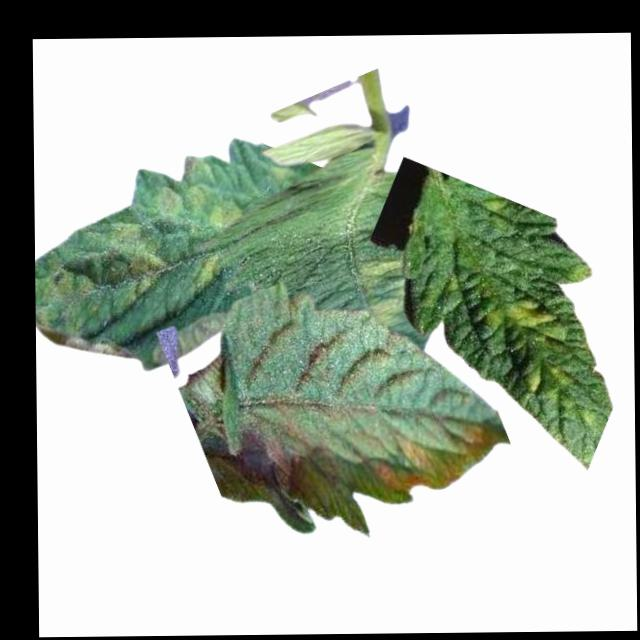Leaf_Mold: (40, 220, 166, 334), (366, 416, 498, 499), (151, 155, 240, 233), (349, 251, 406, 329), (486, 293, 565, 341), (524, 355, 575, 400), (192, 251, 226, 296)
